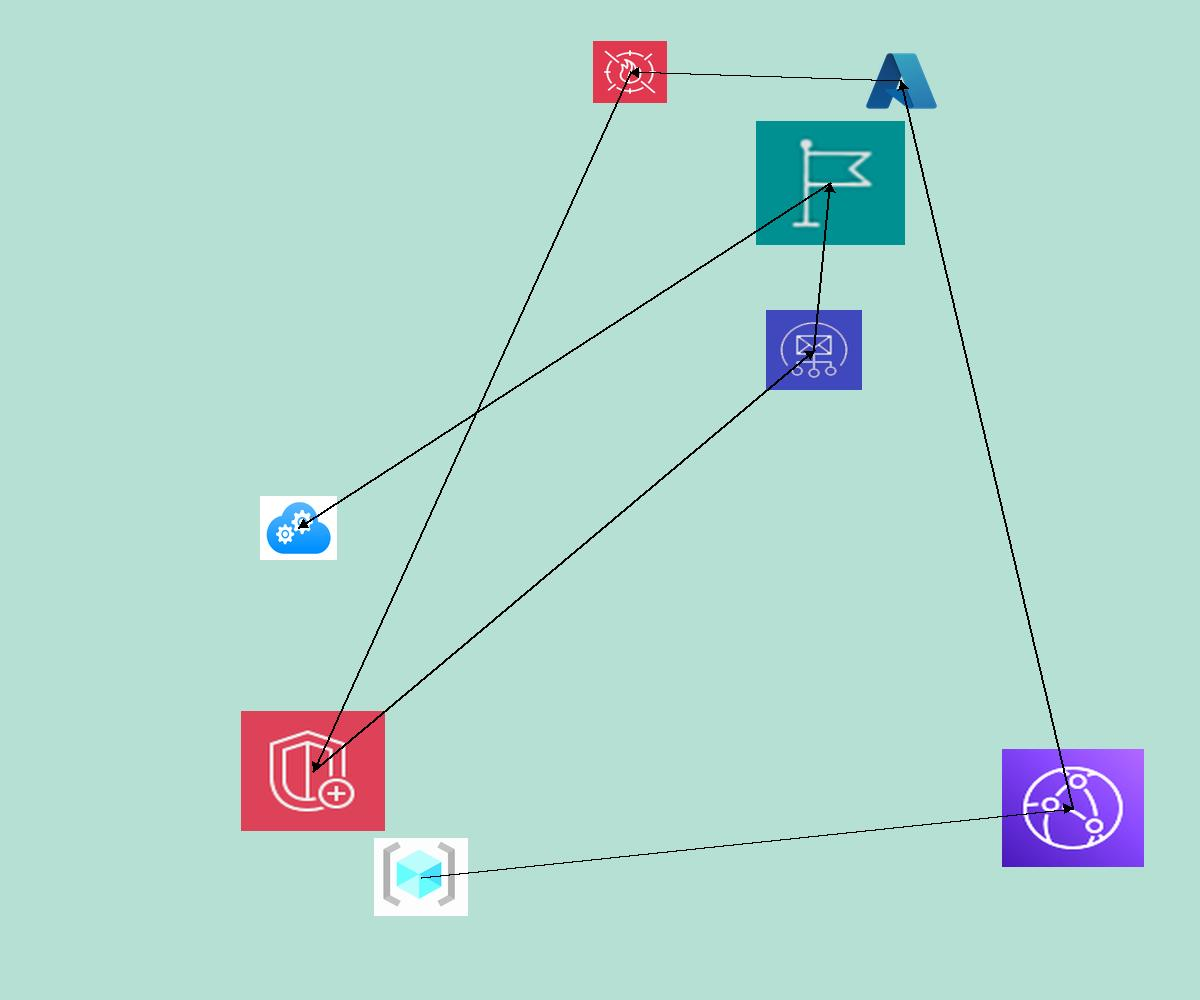AWS-CloudFront: (1002, 749, 1144, 867)
AWS-Region: (756, 121, 905, 245)
AWS-Shield: (241, 711, 385, 831)
AWS-Simple-Email-Service: (766, 310, 862, 390)
AWS-WAF: (593, 41, 667, 103)
Azure_cloud_services: (260, 496, 337, 560)
Azure_resource_group: (374, 838, 468, 916)
Azure_services: (863, 49, 940, 113)
